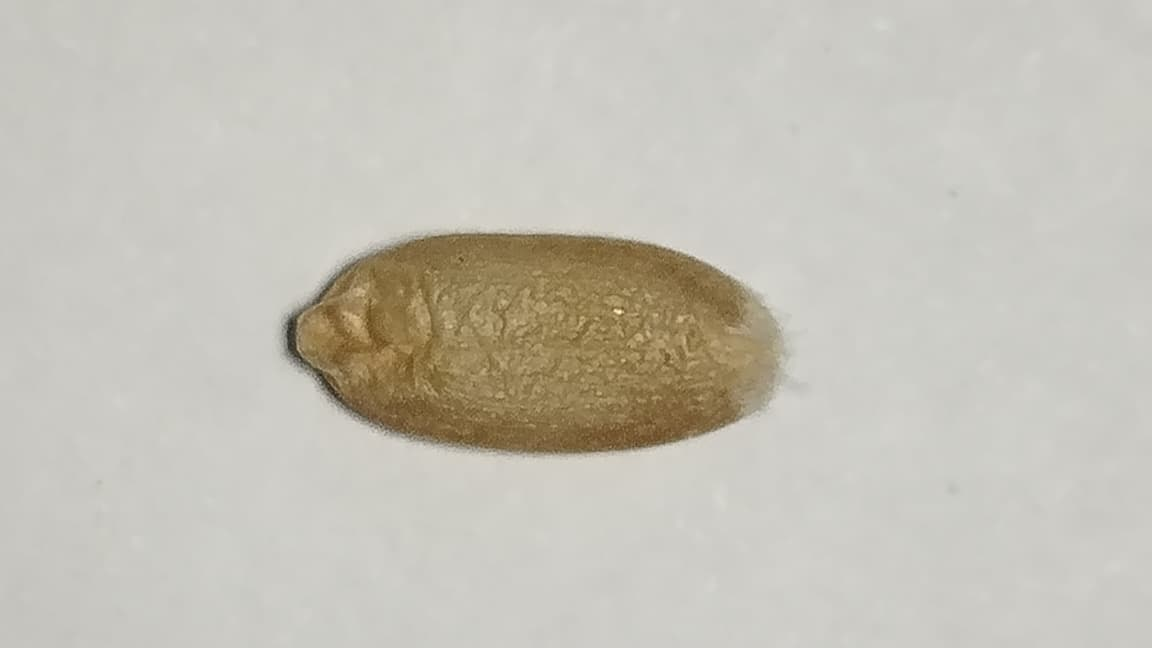healthy: (295, 232, 779, 454)
